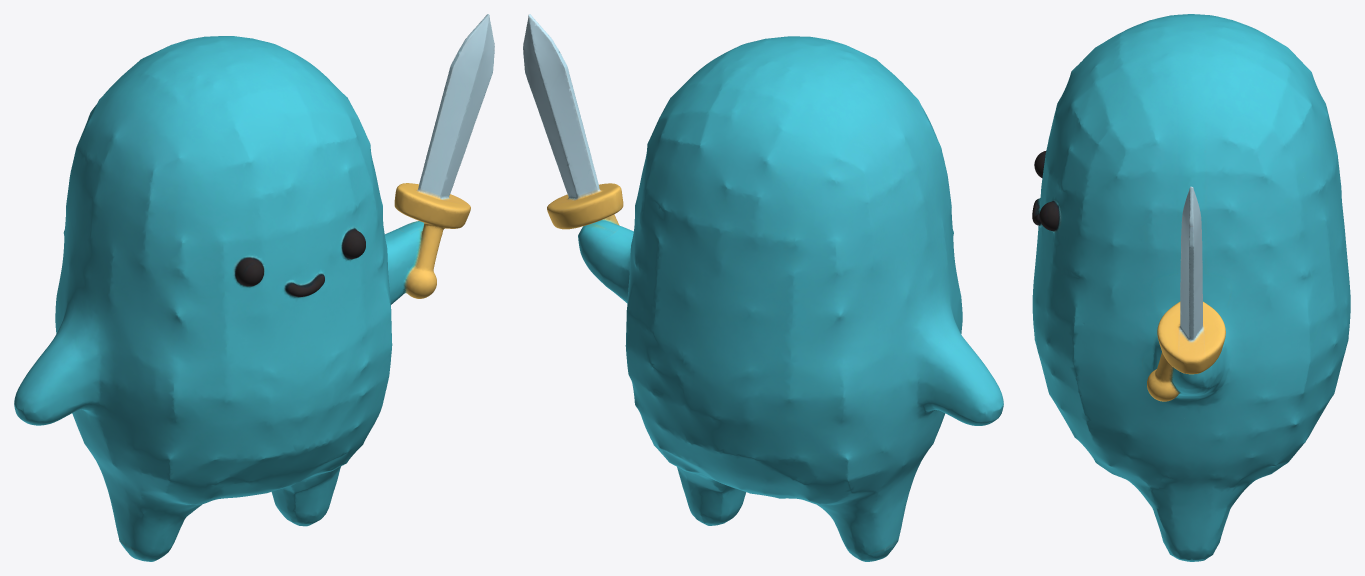
Rendered from Blooby.glb.
The picture shows the model from 3 angles, left to right: view 1: azimuth 30°, elevation 25°; view 2: azimuth 150°, elevation 25°; view 3: azimuth 270°, elevation 25°; orthographic projection.
Size of the model in its own units: 1.9 by 1.86 by 1.09.
1 material, 1 textured.
